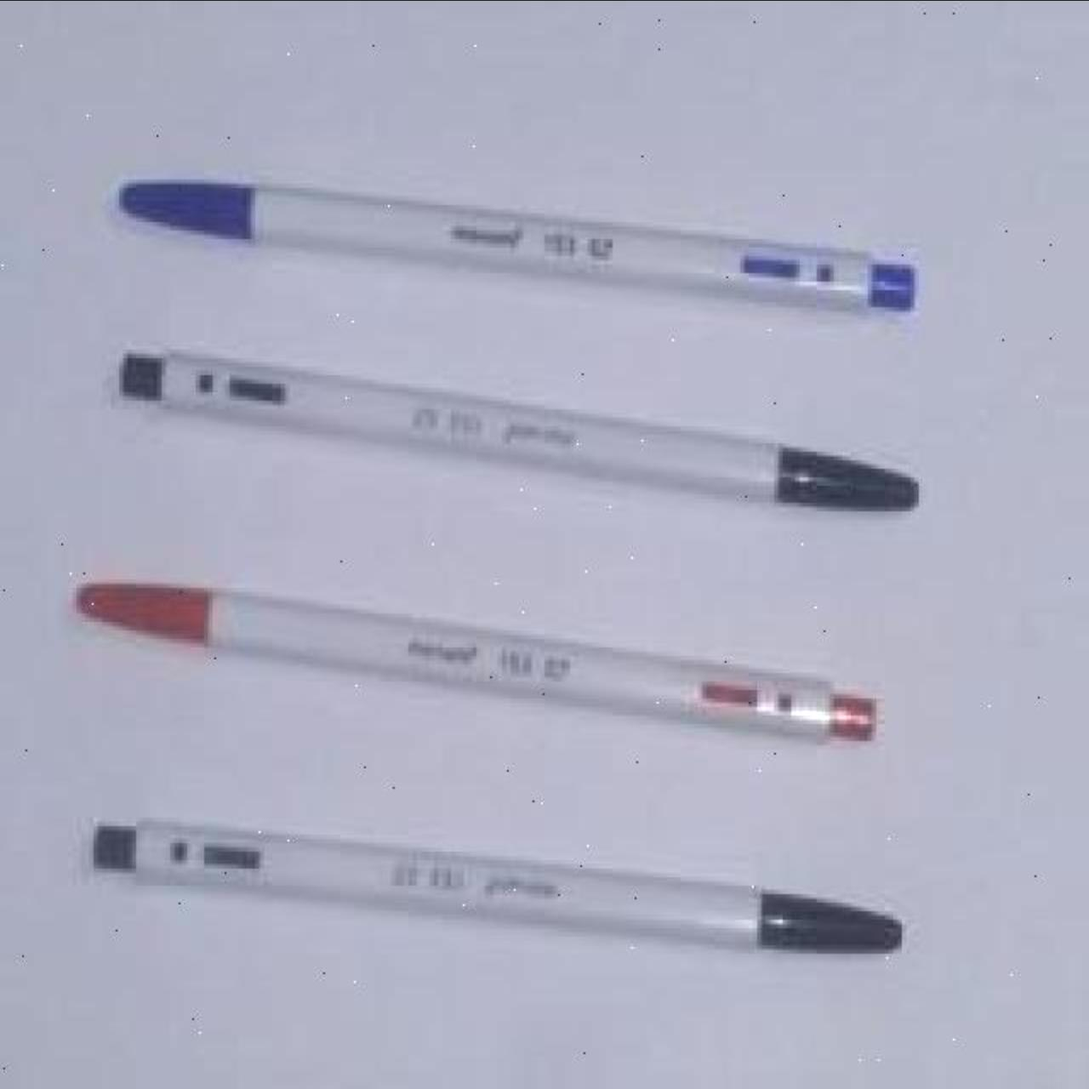pen: (119, 327, 924, 510), (94, 795, 907, 965)
